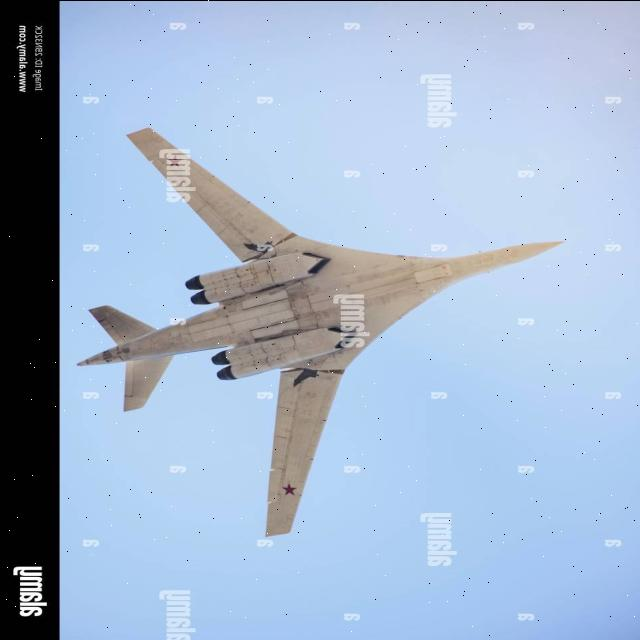Tu160: (59, 86, 599, 566)
